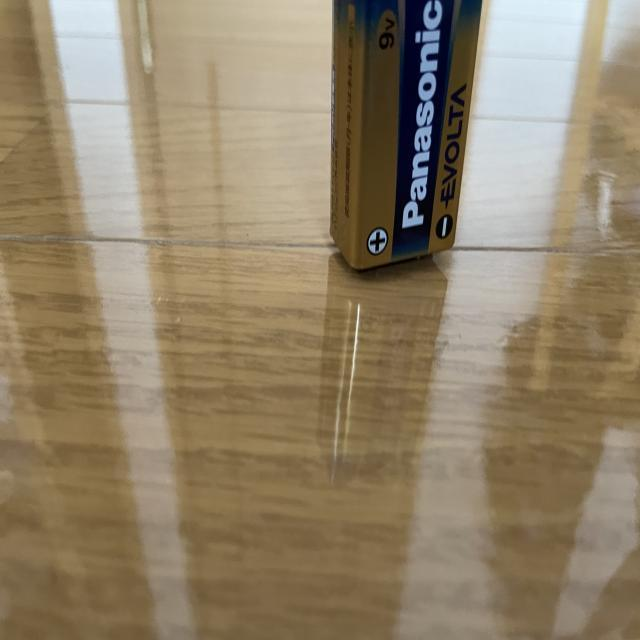9V: (329, 0, 484, 270)
